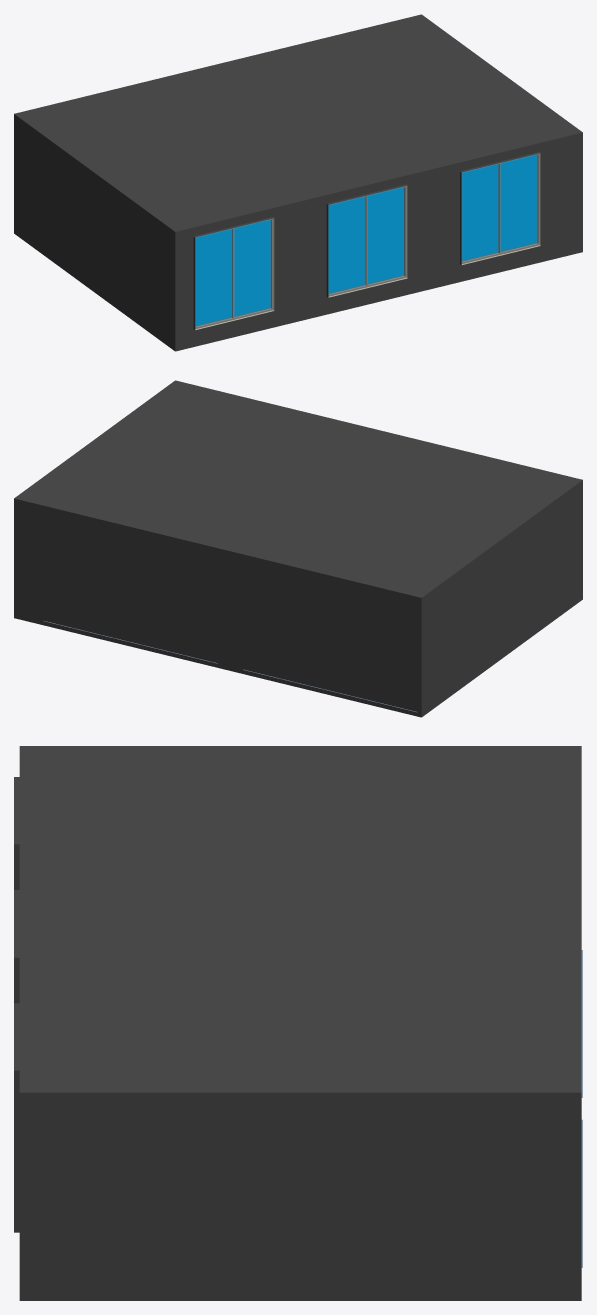
File: Room.fbx
3 views of the same model, one above another, from view 1: azimuth 30°, elevation 25°; view 2: azimuth 150°, elevation 25°; view 3: azimuth 270°, elevation 25° (orthographic). The views are drawn at different scales.
Visible parts, largest first — view 1: Layer, Window_2, Window_1, Window, Room; view 2: Layer; view 3: Layer.
Part boxes in pixels (<box>): Layer: <box>14,14,582,351</box>; Window_2: <box>461,153,539,263</box>; Window_1: <box>328,186,406,296</box>; Window: <box>195,218,273,328</box>; Room: <box>195,153,540,329</box>; Layer: <box>14,380,582,717</box>; Layer: <box>14,746,581,1300</box>.
Size of the model in its own units: 1286 by 361 by 892.
